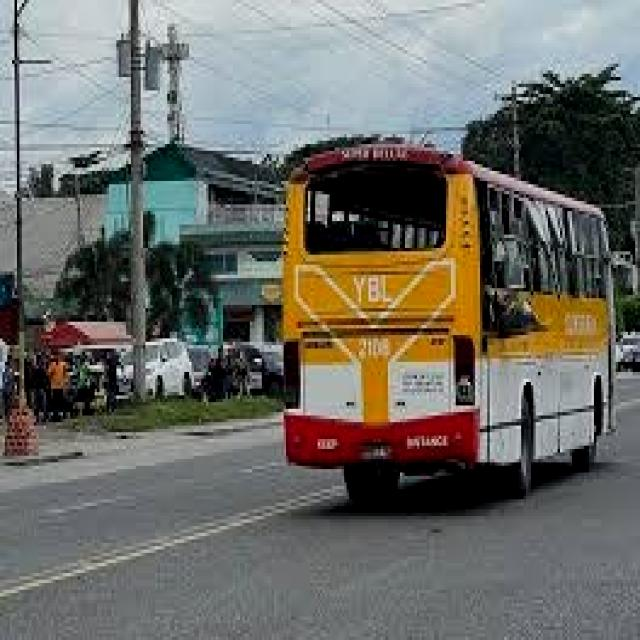bus: (270, 128, 627, 522)
